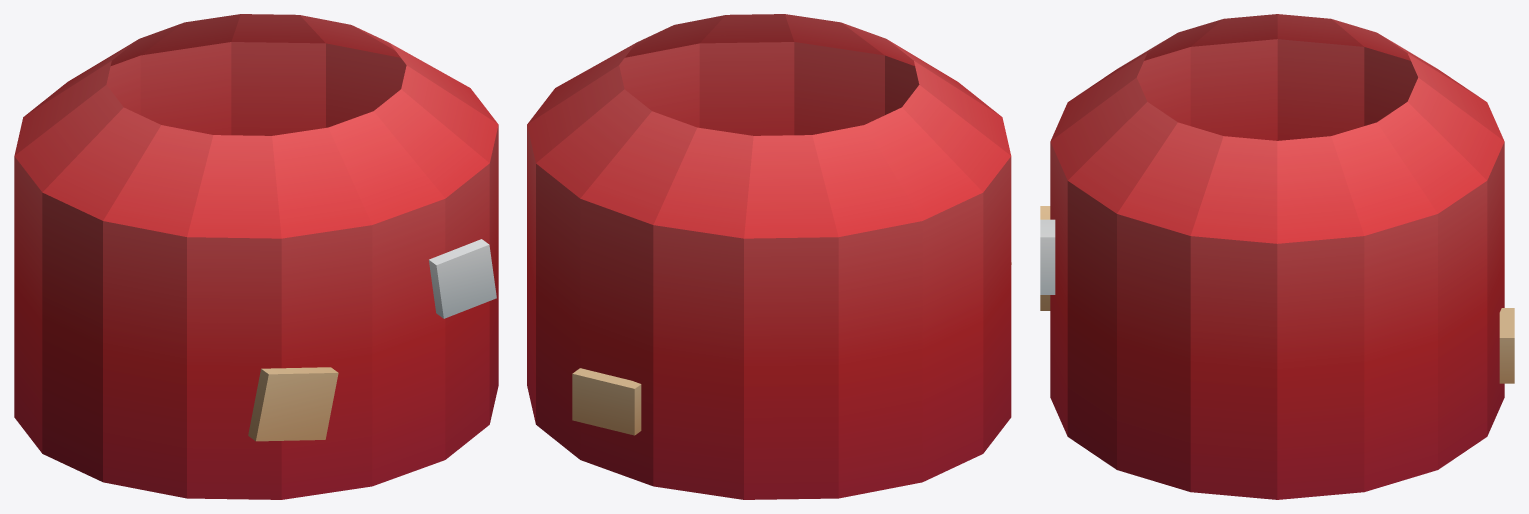
File: patchwork_tunic.glb
The picture shows the model from 3 angles, left to right: view 1: azimuth 30°, elevation 25°; view 2: azimuth 150°, elevation 25°; view 3: azimuth 270°, elevation 25°; orthographic projection. The views are drawn at different scales.
Parts seen in each view (by area): view 1: patchwork_tunic; view 2: patchwork_tunic; view 3: patchwork_tunic.
Boxes of the visible parts, left/top/right/bottom form: patchwork_tunic: left=14, top=14, right=498, bottom=499; patchwork_tunic: left=527, top=14, right=1011, bottom=499; patchwork_tunic: left=1040, top=14, right=1514, bottom=499.
Bounding box in the file's own units: 0.96 × 0.7 × 0.94.
Materials: 1 (1 with a texture image).
